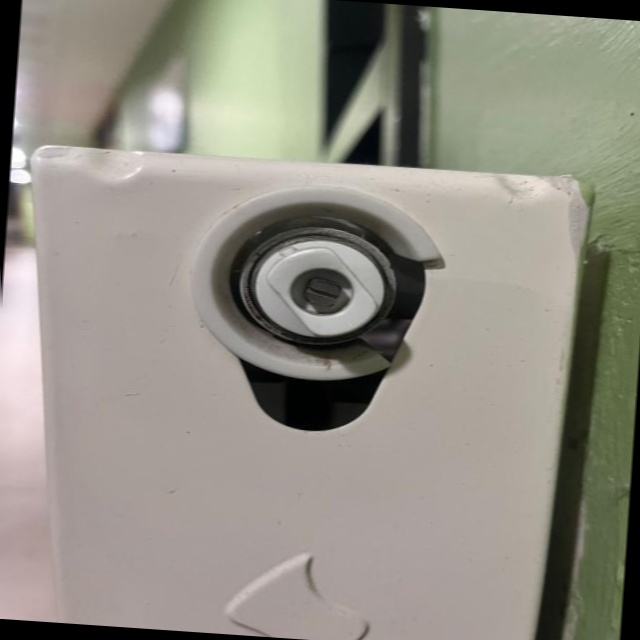duz: (303, 277, 341, 308)
